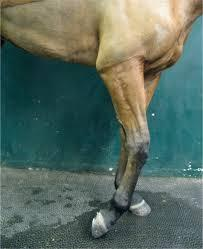fracture: (59, 58, 152, 249)
